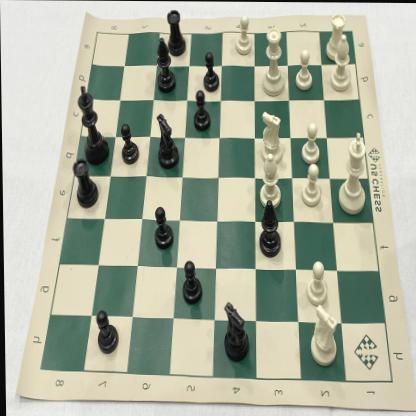black-bishop: (257, 198, 282, 259), (154, 34, 177, 98)
black-king: (75, 80, 110, 165)
black-knight: (221, 297, 250, 363), (155, 111, 179, 171)
black-pawn: (94, 308, 120, 357), (151, 203, 174, 252), (180, 259, 203, 307), (118, 119, 139, 166), (192, 88, 211, 133), (202, 49, 221, 93)
black-rook: (69, 155, 100, 212), (165, 6, 188, 58)
white-bishop: (326, 33, 355, 93), (258, 151, 281, 207)
white-king: (335, 130, 370, 216)
white-knight: (307, 301, 339, 367), (257, 108, 284, 166)
white-pawn: (297, 162, 324, 208), (304, 259, 329, 307), (291, 44, 314, 93), (299, 120, 321, 166), (233, 11, 254, 57)
white-queen: (259, 24, 287, 98)
white-rook: (323, 10, 349, 65)
